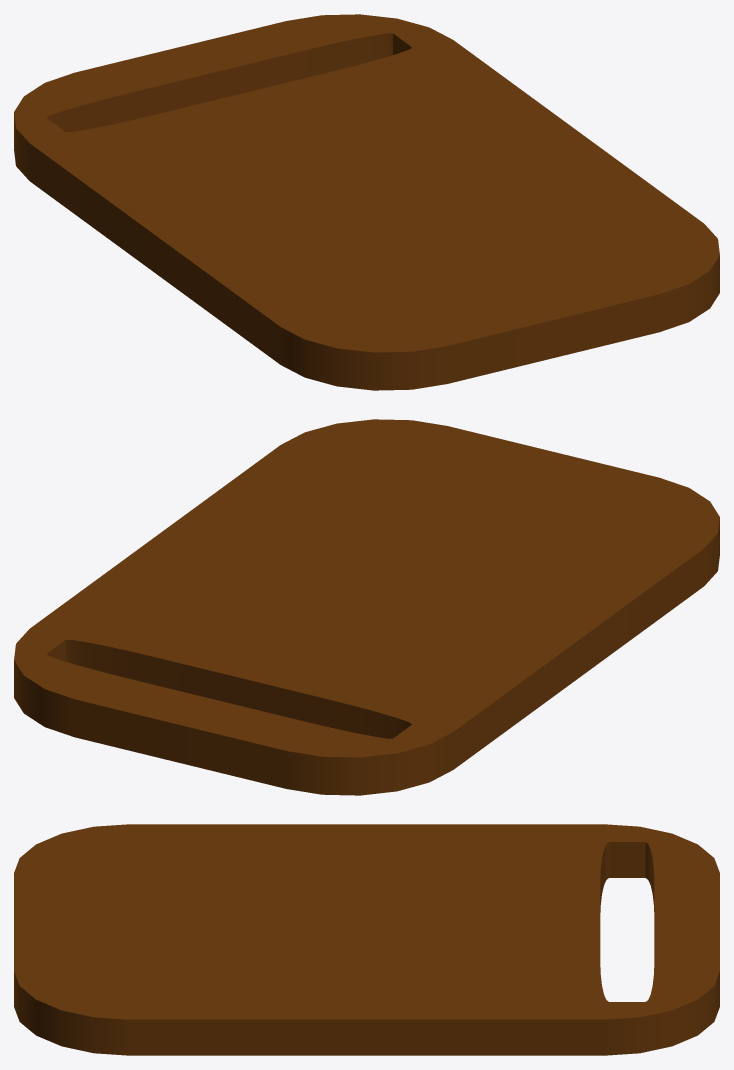
Rendered from choppingboard.fbx.
The picture shows the model from 3 angles, top to bottom: view 1: azimuth 30°, elevation 25°; view 2: azimuth 150°, elevation 25°; view 3: azimuth 270°, elevation 25°; orthographic projection. The views are drawn at different scales.
Visible parts, largest first — view 1: choppingboard; view 2: choppingboard; view 3: choppingboard.
Boxes of the visible parts, box(x1,y1,x2,y2) form: choppingboard: box(14, 14, 719, 390); choppingboard: box(14, 419, 719, 795); choppingboard: box(14, 824, 719, 1055).
Bounding box in the file's own units: 74.88 × 6.43 × 114.
